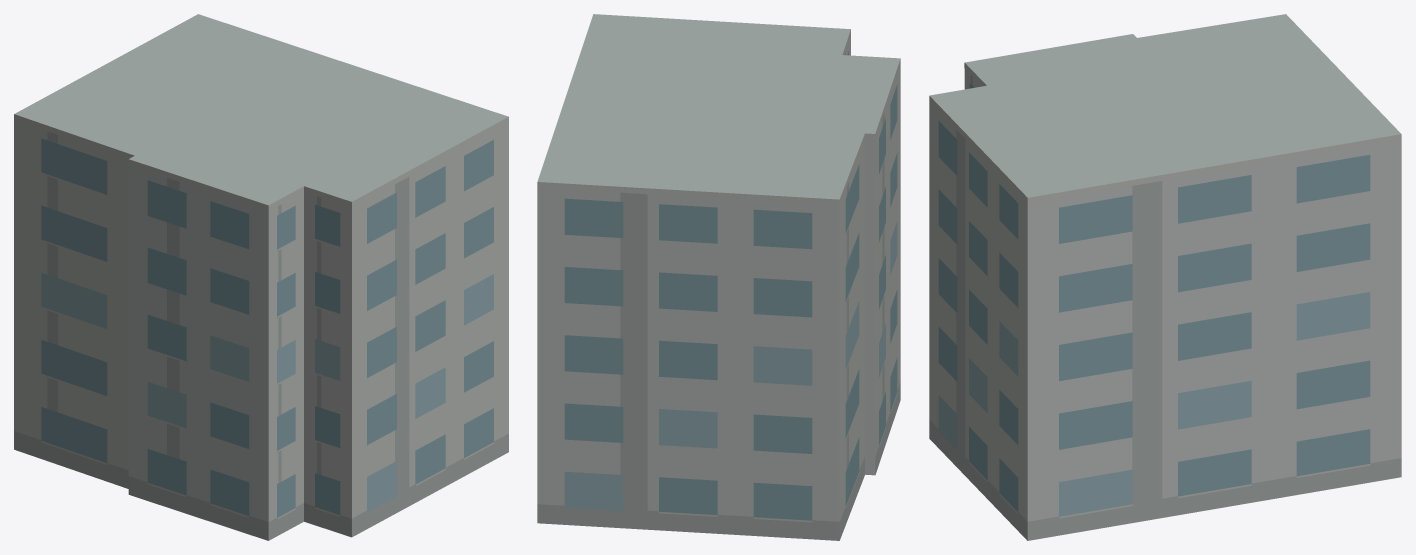
The model's file is survey-upis-32763683.glb.
3 renders of one model, left to right at view 1: azimuth 30°, elevation 25°; view 2: azimuth 150°, elevation 25°; view 3: azimuth 270°, elevation 25°, orthographic. The views are drawn at different scales.
Visible parts, largest first — view 1: survey-upis-32763683.tmp; view 2: survey-upis-32763683.tmp; view 3: survey-upis-32763683.tmp.
Part boxes in pixels (bbox=[...]): survey-upis-32763683.tmp: bbox=[14, 14, 508, 540]; survey-upis-32763683.tmp: bbox=[537, 14, 900, 540]; survey-upis-32763683.tmp: bbox=[929, 14, 1401, 540].
Size of the model in its own units: 16.15 by 14.05 by 17.54.
